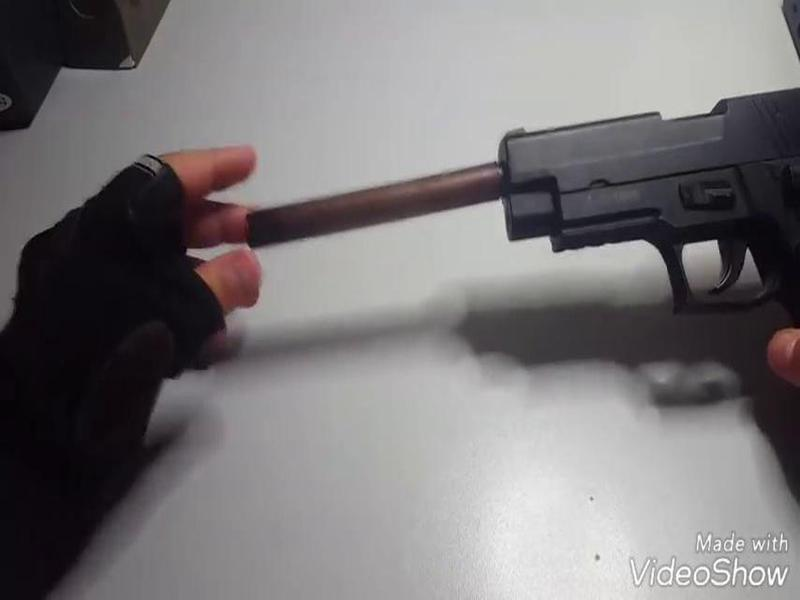Pistola: (501, 65, 800, 335)
